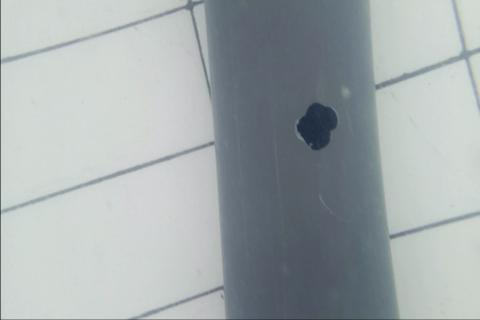kebocoran: (293, 98, 339, 155)
